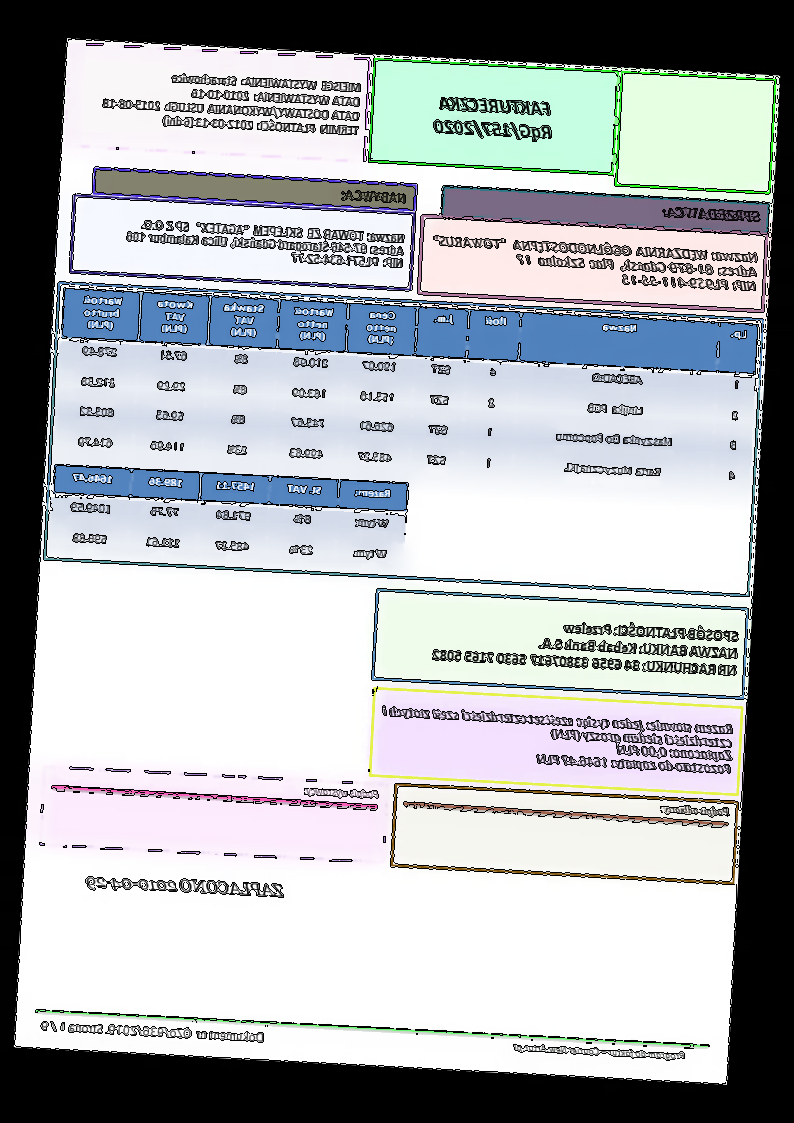Table: (54, 286, 760, 497), (49, 464, 410, 573)
TextBox: (378, 703, 736, 777), (429, 612, 742, 680), (430, 233, 761, 293), (100, 68, 364, 137), (125, 217, 407, 269), (432, 93, 556, 146), (84, 871, 287, 903), (40, 1019, 266, 1045), (512, 1040, 689, 1064), (661, 205, 764, 224), (303, 784, 381, 802), (339, 187, 409, 207), (658, 801, 732, 818)
